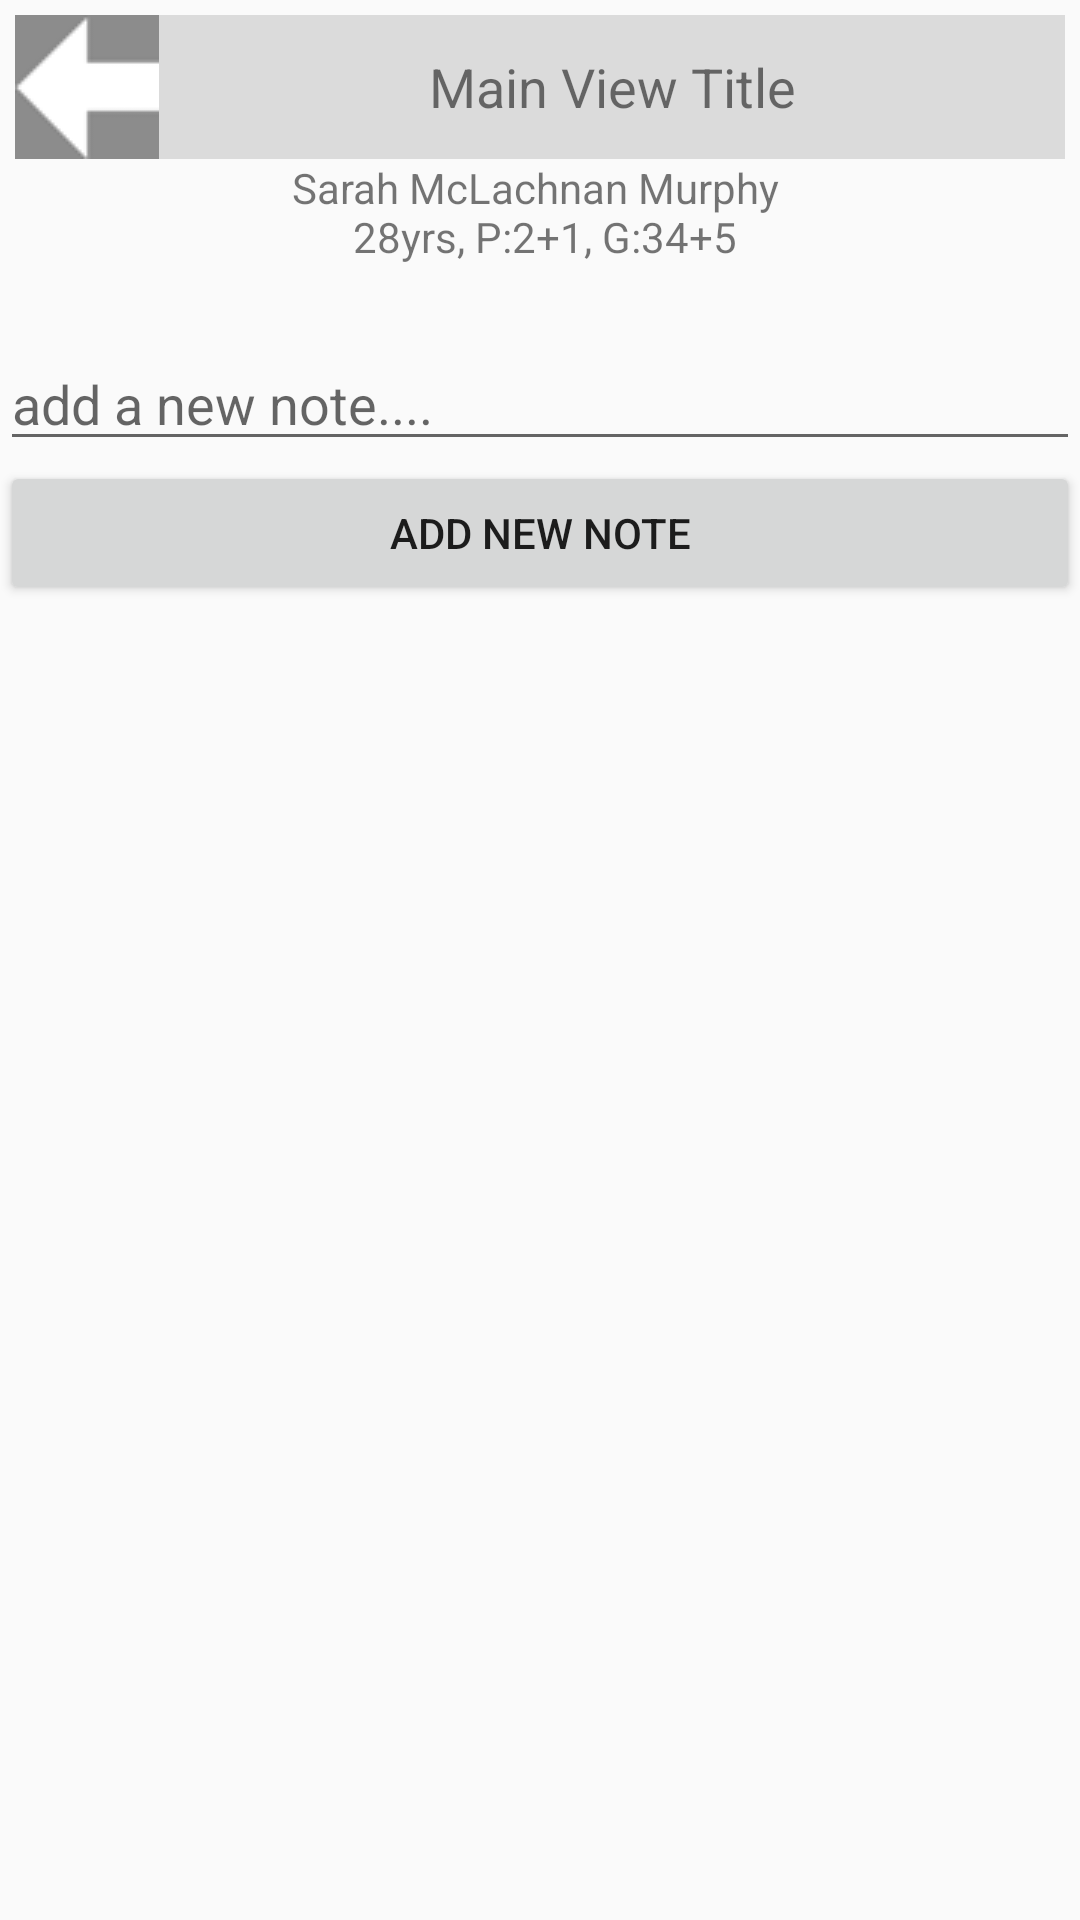

Where icons sit on this 1080w x 1920h app screen, as (x1, y1, x2, y2):
back arrow: (15, 15, 159, 159)
